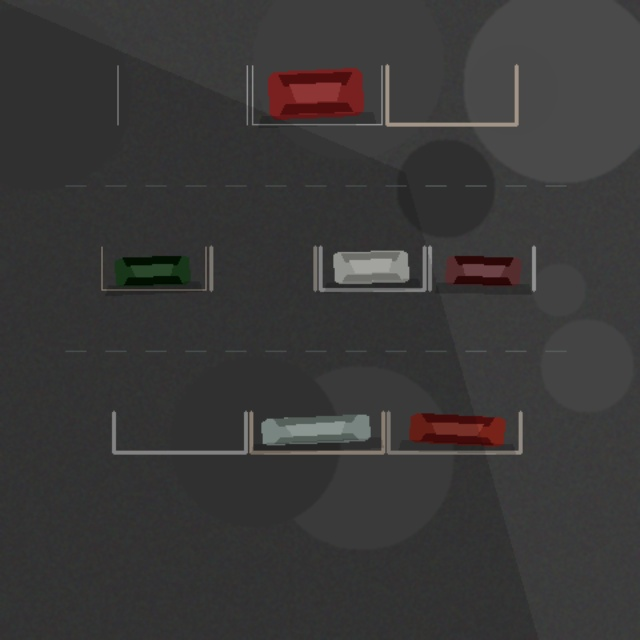space-empty: (117, 65, 247, 124), (387, 65, 516, 124), (113, 412, 245, 452), (211, 247, 315, 289)
space-occupied: (252, 65, 381, 124), (251, 412, 383, 452), (388, 412, 520, 452), (101, 247, 205, 289), (320, 247, 424, 289), (429, 247, 533, 289)
